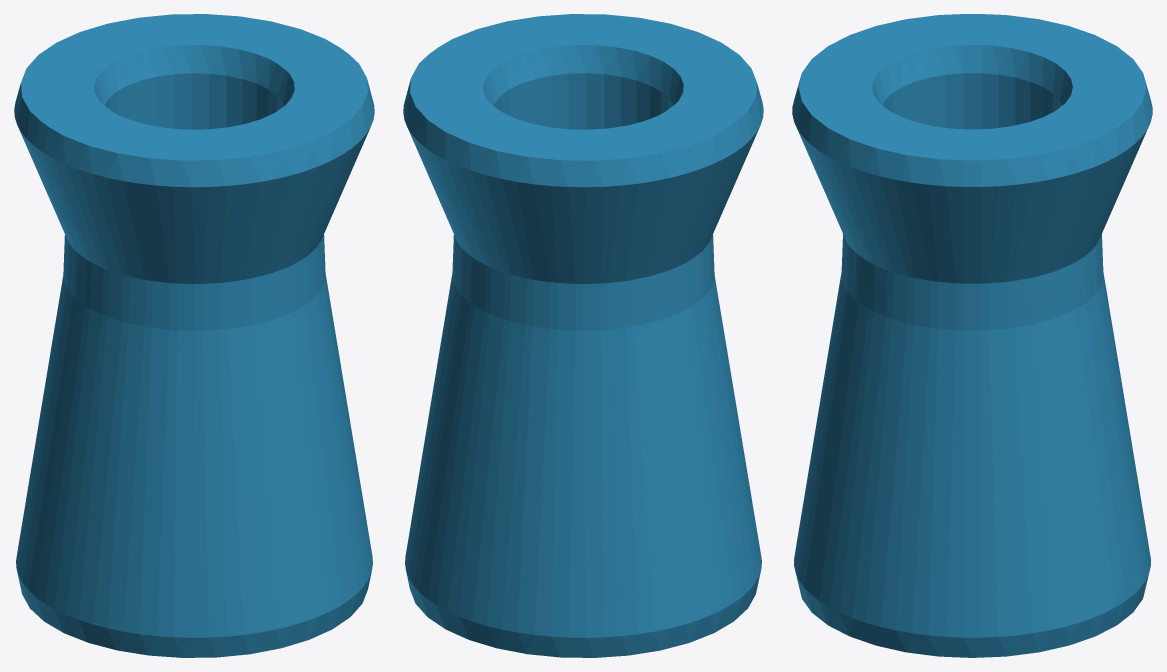
Rendered from token_round_hole_small.fbx.
The picture shows the model from 3 angles, left to right: view 1: azimuth 30°, elevation 25°; view 2: azimuth 150°, elevation 25°; view 3: azimuth 270°, elevation 25°; orthographic projection.
Visible parts, largest first — view 1: token_round_hole_small_1; view 2: token_round_hole_small_1; view 3: token_round_hole_small_1.
Part boxes in pixels (x1=…): token_round_hole_small_1: x1=14, y1=14, x2=374, y2=657; token_round_hole_small_1: x1=403, y1=14, x2=763, y2=657; token_round_hole_small_1: x1=792, y1=14, x2=1152, y2=657.
Size of the model in its own units: 197 by 300 by 197.
